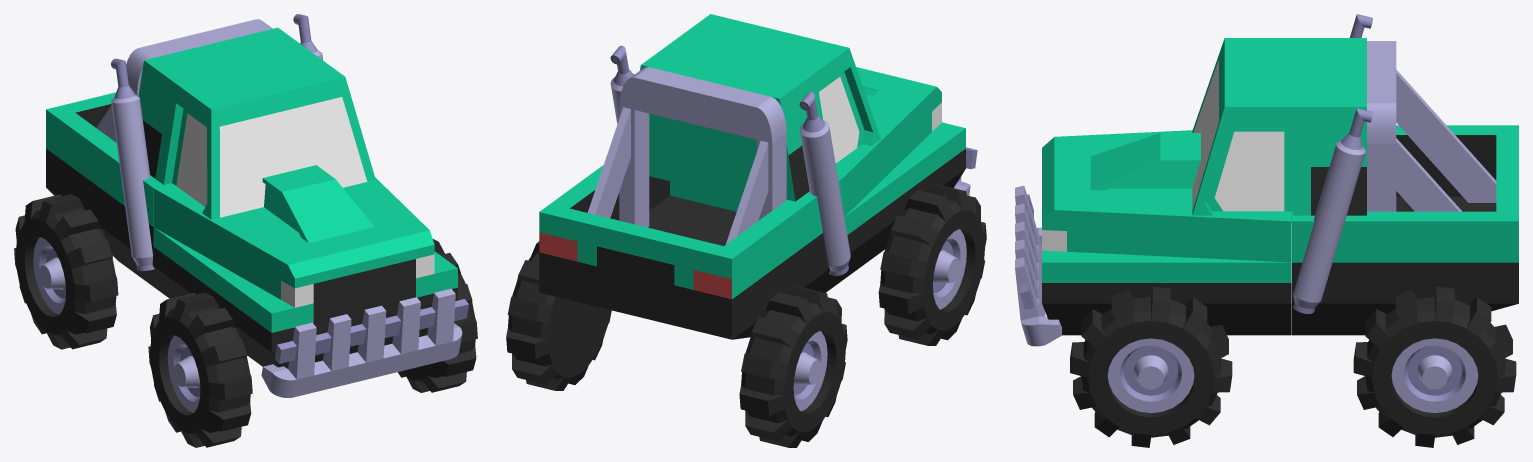
The model's file is Monster 1.fbx.
The picture shows the model from 3 angles, left to right: view 1: azimuth 30°, elevation 25°; view 2: azimuth 150°, elevation 25°; view 3: azimuth 270°, elevation 25°; orthographic projection. The views are drawn at different scales.
Parts seen in each view (by area): view 1: body_frontTruck, body_topVan, wheel_ridges (×3), bumper_grill, body_backBedClosed, detail_exhaustVerticalThin (×2), body_topBackStandard, detail_rollbar; view 2: wheel_ridges (×3), body_backBedClosed, body_topVan, detail_rollbar, body_frontTruck, detail_exhaustVerticalThin (×2); view 3: wheel_ridges (×2), body_frontTruck, body_topVan, body_backBedClosed, detail_rollbar, detail_exhaustVerticalThin, body_topBackStandard, bumper_grill.
Part boxes in pixels (box(x1,y1,x2,y2)): body_frontTruck: box(153, 177, 457, 368); body_topVan: box(138, 27, 375, 230); wheel_ridges (×3): box(14, 194, 477, 447); bumper_grill: box(261, 288, 468, 397); body_backBedClosed: box(46, 92, 171, 298); detail_exhaustVerticalThin (×2): box(111, 14, 323, 270); body_topBackStandard: box(262, 165, 374, 242); detail_rollbar: box(96, 19, 272, 142); wheel_ridges (×3): box(506, 184, 986, 447); body_backBedClosed: box(539, 165, 843, 339); body_topVan: box(640, 14, 883, 201); detail_rollbar: box(587, 67, 786, 244); body_frontTruck: box(670, 67, 965, 292); detail_exhaustVerticalThin (×2): box(610, 45, 850, 275); wheel_ridges (×2): box(1070, 286, 1516, 447); body_frontTruck: box(1042, 130, 1291, 335); body_topVan: box(1189, 38, 1366, 226); body_backBedClosed: box(1292, 125, 1518, 335); detail_rollbar: box(1367, 41, 1496, 211); detail_exhaustVerticalThin: box(1293, 108, 1372, 313); body_topBackStandard: box(1090, 133, 1200, 190); bumper_grill: box(1015, 185, 1061, 346).
Size of the model in its own units: 0.1433 by 0.1557 by 0.2219.
